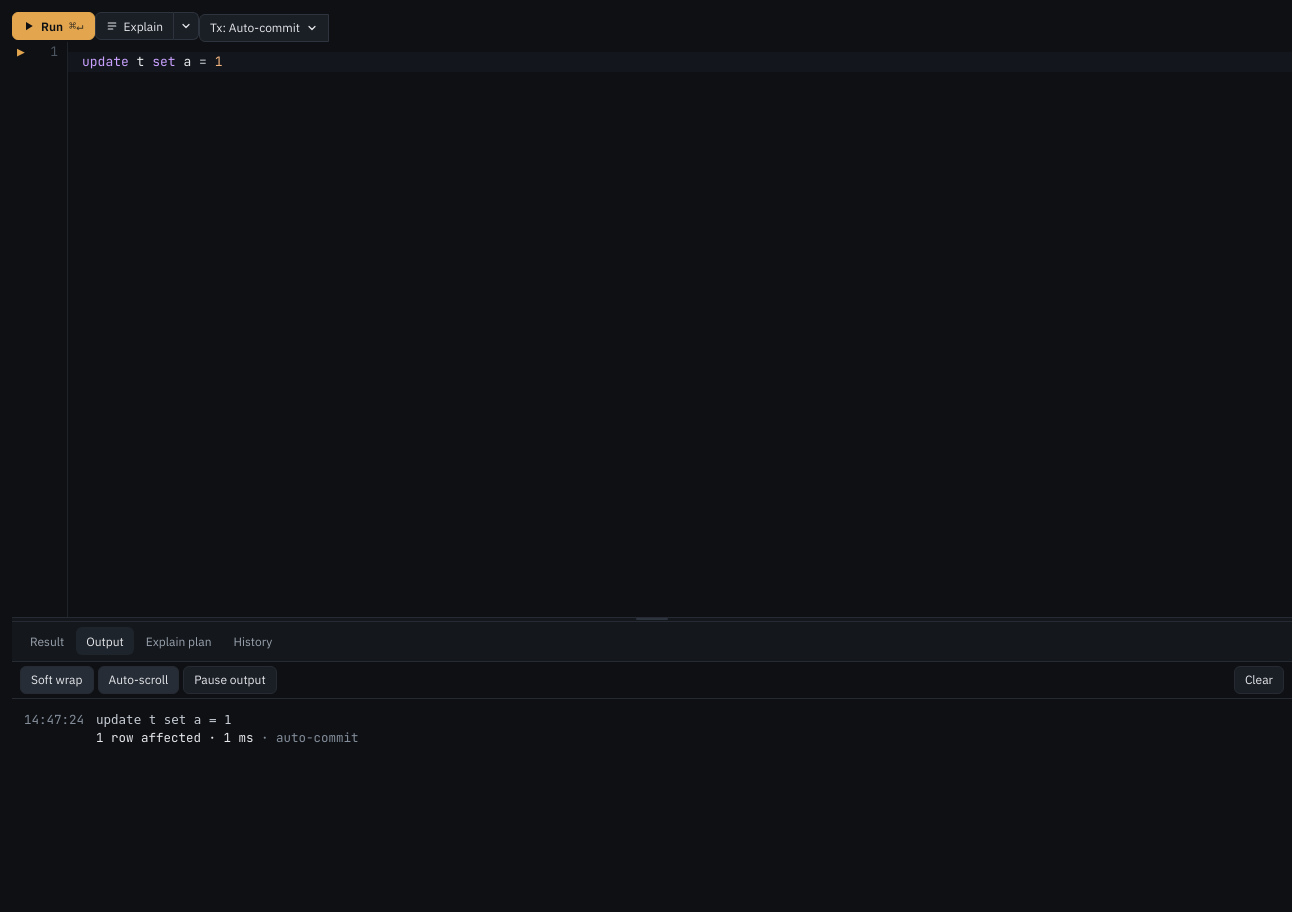
isolation level in the Tx menu (spec: sql-console › Transaction isolation level) › picking a level with no transaction open applies it at once and shows it on the chip (spec: sql-console › Choose a level)
This screenshot has width=1292, height=912.
What coordinates should you click on to do the following:
click the button "Tx: Auto-commit"
I would click on:
 (264, 28)
Its box is 199,14 -> 329,42.
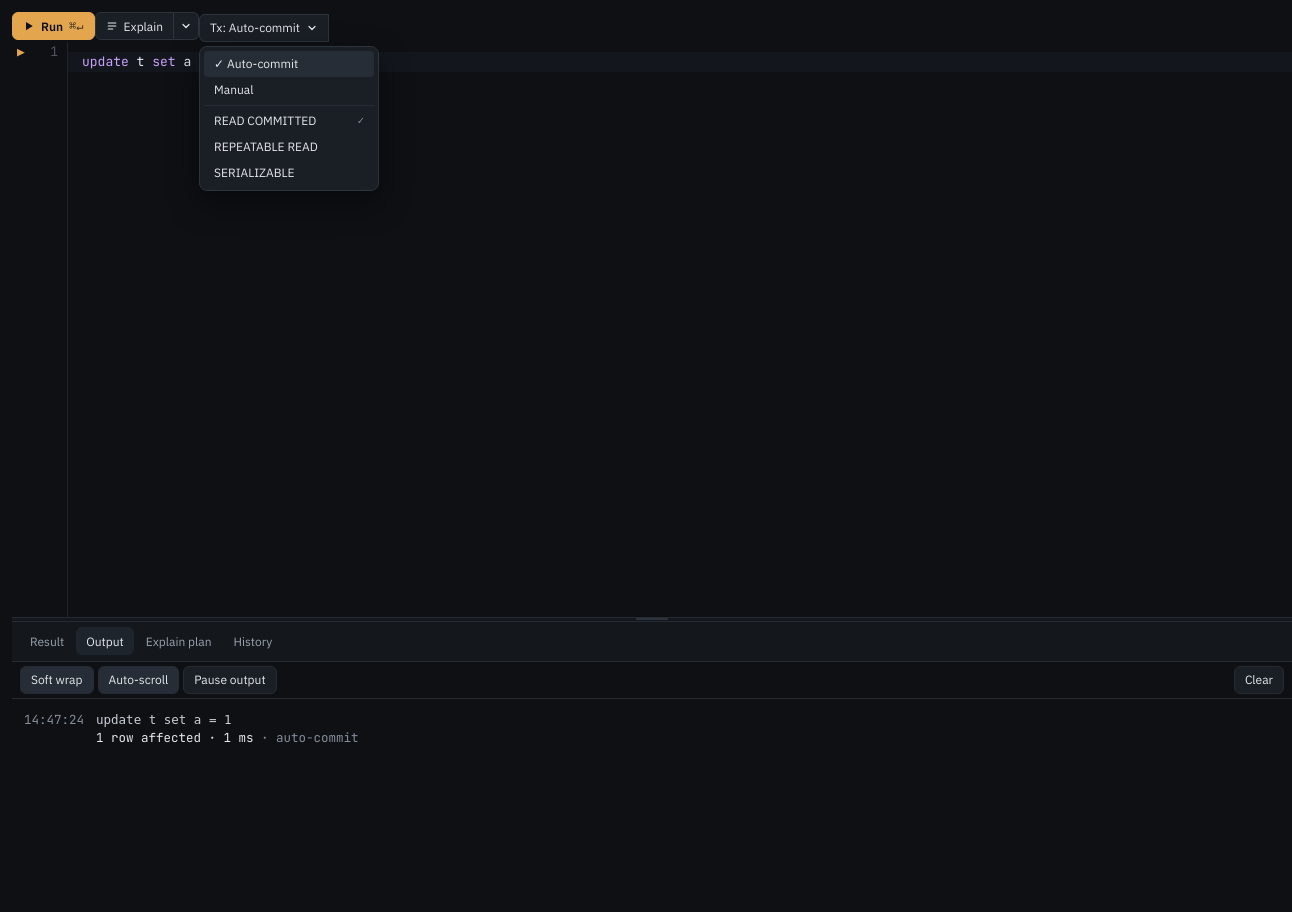
What coordinates should you click on to do the following:
click the menu item "Manual"
I would click on:
 (289, 90)
Its box is 204,76 -> 374,102.
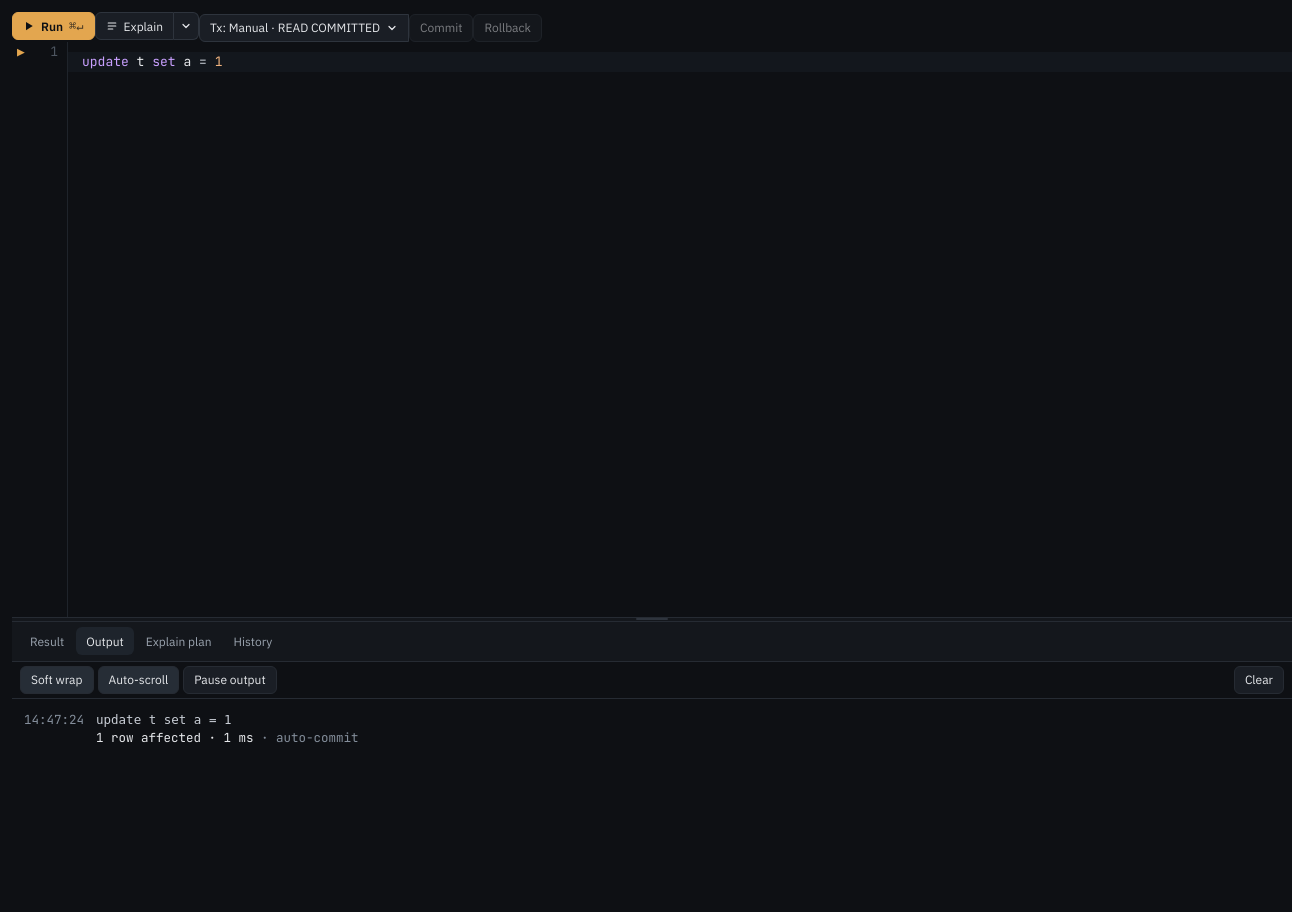
Result: the button "Tx: Manual · READ COMMITTED" is shown
What coordinates should you click on to do the following:
click the button "Tx: Manual · READ COMMITTED"
I would click on:
 (304, 28)
Its box is 199,14 -> 409,42.
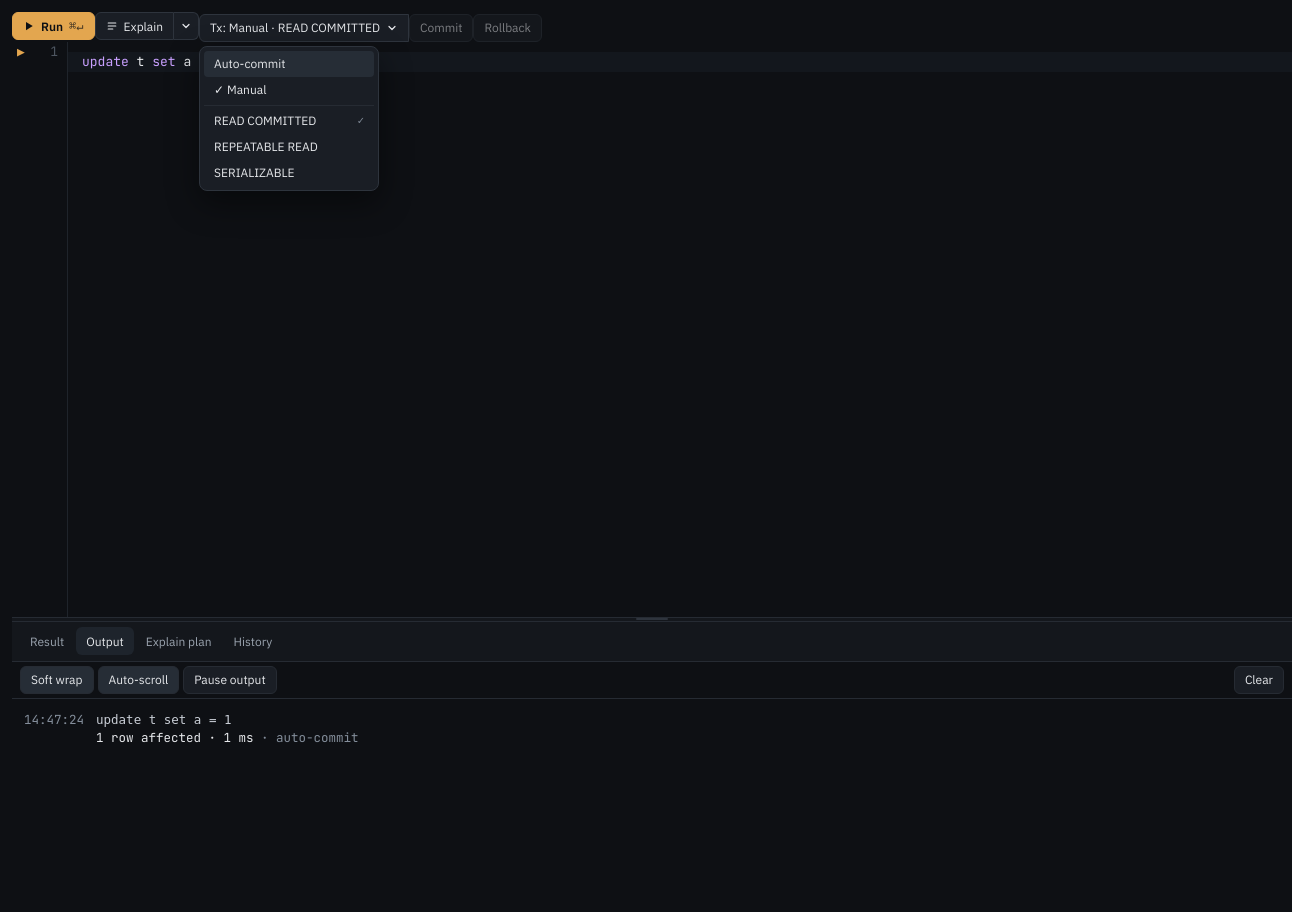
Result: the menu item "READ COMMITTED ✓" is shown at 204,108 -> 374,134
What coordinates should you click on to do the following:
click the menu item "SERIALIZABLE"
I would click on:
 (289, 172)
Its box is 204,160 -> 374,186.
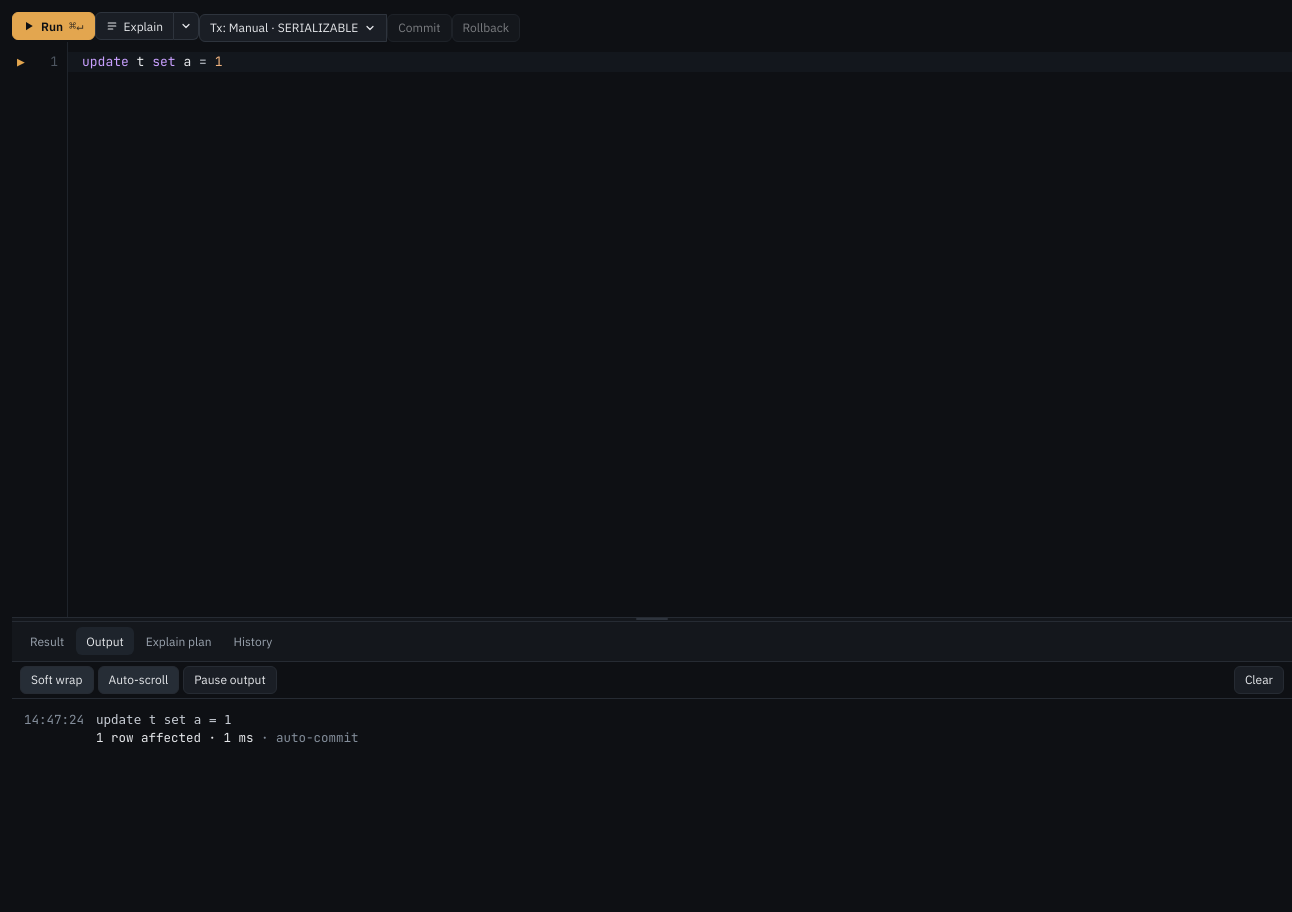
Result: the button "Tx: Manual · SERIALIZABLE" is shown at 199,14 -> 387,42
